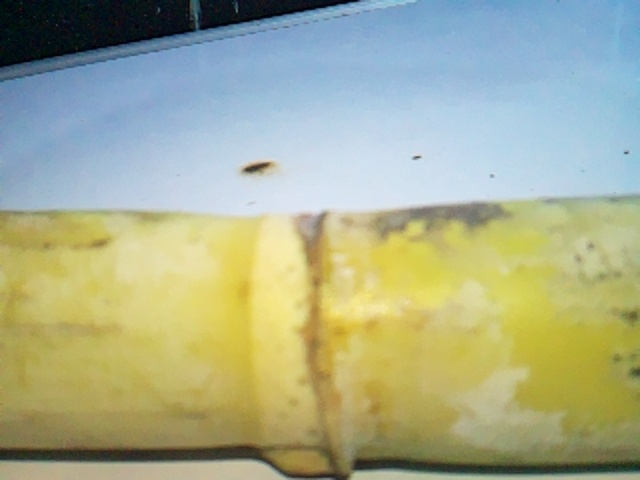Good Sugarcane: (0, 186, 635, 462)
Node: (230, 209, 380, 478)
